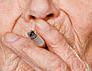smoke: (27, 29, 48, 50)
